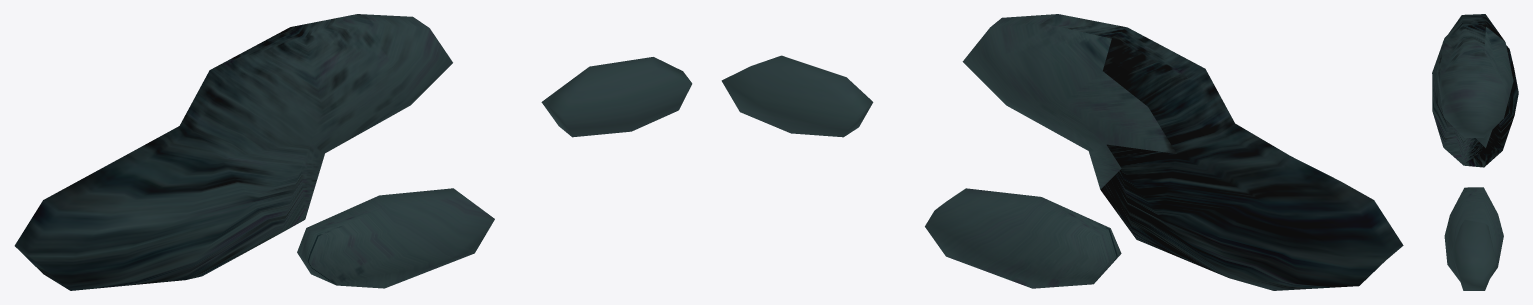
The model's file is projectile.glb.
3 renders of one model, left to right at view 1: azimuth 30°, elevation 25°; view 2: azimuth 150°, elevation 25°; view 3: azimuth 270°, elevation 25°, orthographic. The views are drawn at different scales.
Parts seen in each view (by area): view 1: Mball.004; view 2: Mball.004; view 3: Mball.004.
Part boxes in pixels (left/top/right/bottom): Mball.004: left=14, top=14, right=692, bottom=290; Mball.004: left=721, top=14, right=1403, bottom=290; Mball.004: left=1432, top=14, right=1518, bottom=290.
Bounding box in the file's own units: 14.4 × 5.6 × 2.12.
1 material, 1 textured.
